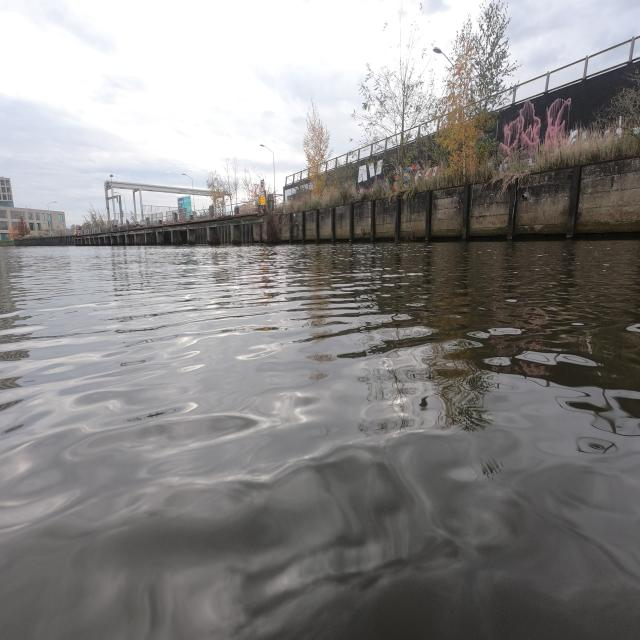sky: (6, 4, 480, 208), (506, 2, 638, 70)
wall: (186, 158, 638, 240), (514, 158, 638, 238)
water: (0, 240, 640, 640)
